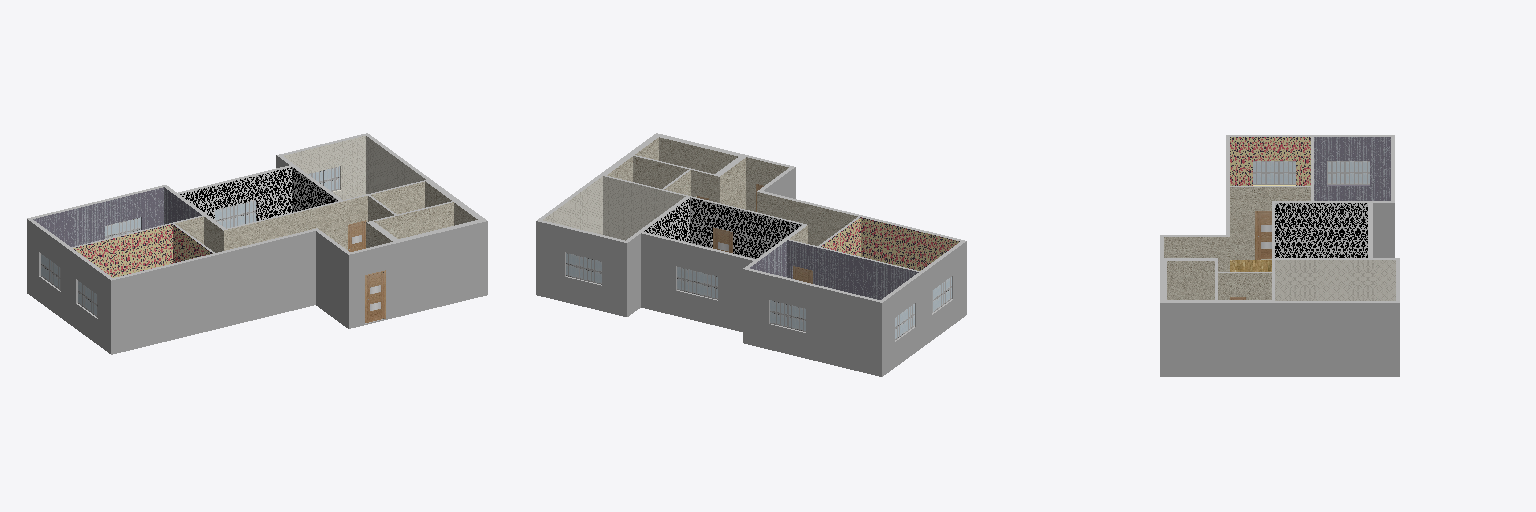
3 views of the same model, side by side, from view 1: azimuth 30°, elevation 25°; view 2: azimuth 150°, elevation 25°; view 3: azimuth 270°, elevation 25° (orthographic).
Bounding box in the file's own units: 14.77 × 3.05 × 8.95.
9 materials, 8 textured.